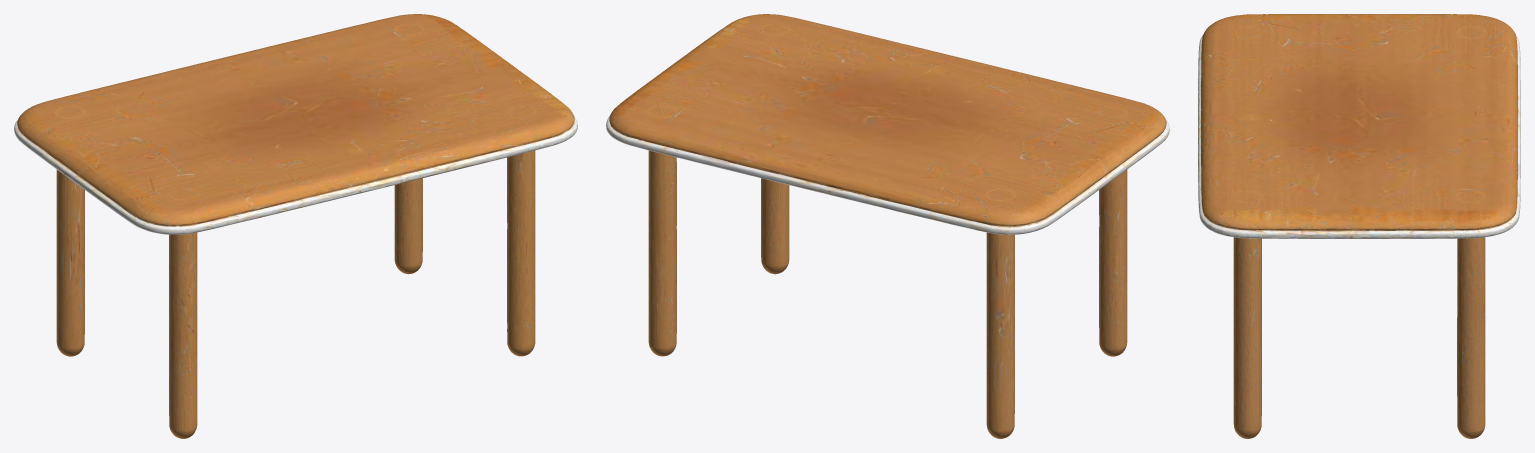
File: ktable.glb
3 renders of one model, left to right at view 1: azimuth 30°, elevation 25°; view 2: azimuth 150°, elevation 25°; view 3: azimuth 270°, elevation 25°, orthographic.
Size of the model in its own units: 1.9 by 1 by 1.21.
1 material, 1 textured.
